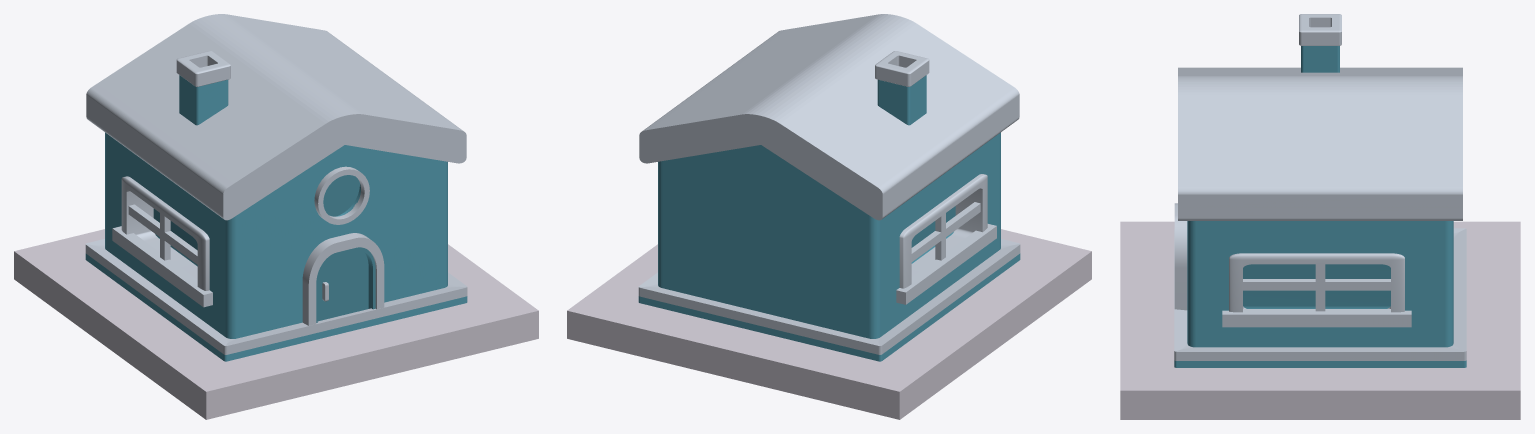
File: ice_snow_house.fbx
3 renders of one model, left to right at view 1: azimuth 30°, elevation 25°; view 2: azimuth 150°, elevation 25°; view 3: azimuth 270°, elevation 25°, orthographic. The views are drawn at different scales.
Parts seen in each view (by area): view 1: house, house roof, Cube.021, left window, door, chimney, front window; view 2: house, house roof, Cube.021, left window, chimney; view 3: house roof, Cube.021, house, right window, chimney, door.
Boxes of the visible parts, bbox=[...] form: house: bbox=[85, 132, 467, 361]; house roof: bbox=[86, 14, 466, 220]; Cube.021: bbox=[14, 229, 538, 419]; left window: bbox=[112, 176, 212, 307]; door: bbox=[302, 233, 384, 325]; chimney: bbox=[176, 51, 230, 125]; front window: bbox=[314, 166, 369, 224]; house: bbox=[638, 132, 1020, 361]; house roof: bbox=[639, 14, 1019, 220]; Cube.021: bbox=[567, 229, 1091, 419]; left window: bbox=[896, 174, 996, 304]; chimney: bbox=[875, 51, 929, 125]; house roof: bbox=[1178, 67, 1462, 220]; Cube.021: bbox=[1120, 221, 1520, 419]; house: bbox=[1174, 221, 1466, 367]; right window: bbox=[1222, 253, 1411, 327]; chimney: bbox=[1299, 14, 1341, 72]; door: bbox=[1174, 203, 1187, 310].
Size of the model in its own units: 301 by 229 by 301.
